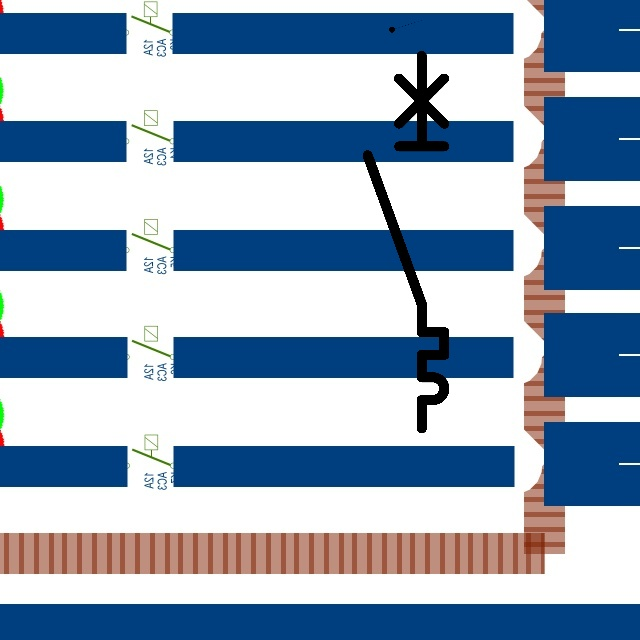interruptor_termomagnetico: (358, 46, 454, 438)
